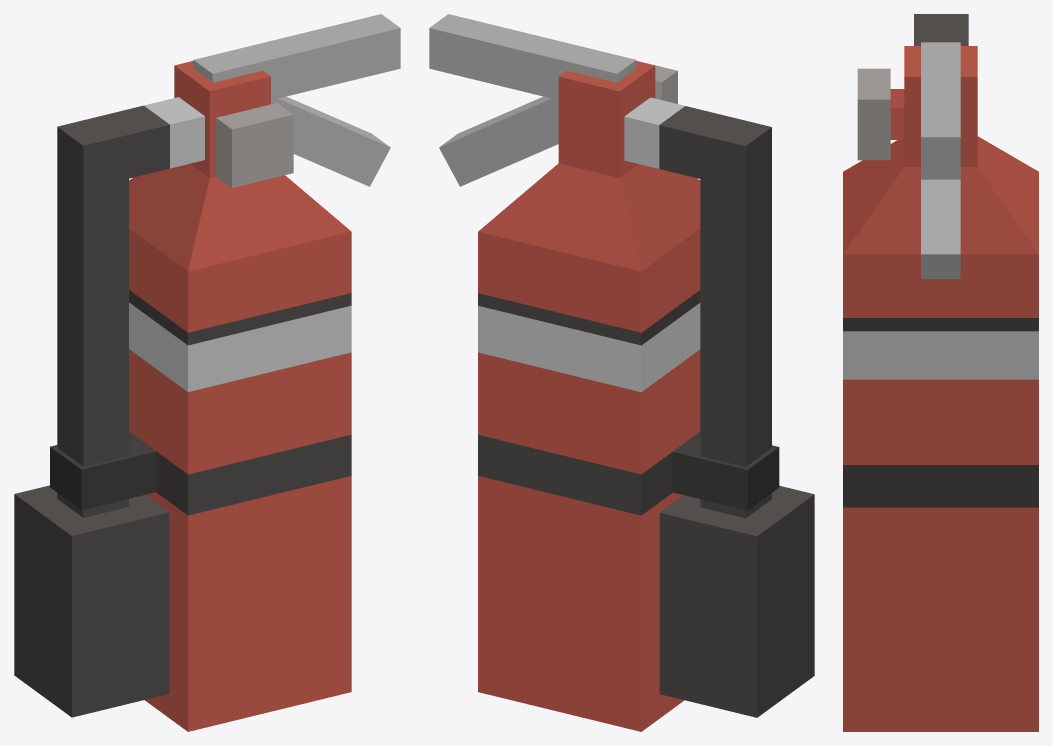
Rendered from FireExtinguisher.glb.
3 renders of one model, left to right at view 1: azimuth 30°, elevation 25°; view 2: azimuth 150°, elevation 25°; view 3: azimuth 270°, elevation 25°, orthographic. The views are drawn at different scales.
Visible parts, largest first — view 1: SI_Prop_FireExtinguisher_01; view 2: SI_Prop_FireExtinguisher_01; view 3: SI_Prop_FireExtinguisher_01.
Boxes of the visible parts, left/top/right/bottom form: SI_Prop_FireExtinguisher_01: left=14, top=14, right=400, bottom=731; SI_Prop_FireExtinguisher_01: left=429, top=14, right=814, bottom=731; SI_Prop_FireExtinguisher_01: left=843, top=14, right=1038, bottom=731.
Size of the model in its own units: 0.00641 by 0.0108 by 0.00302.
1 material, 1 textured.
